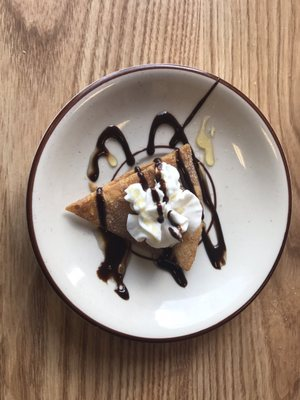curry: (1, 1, 297, 363)
